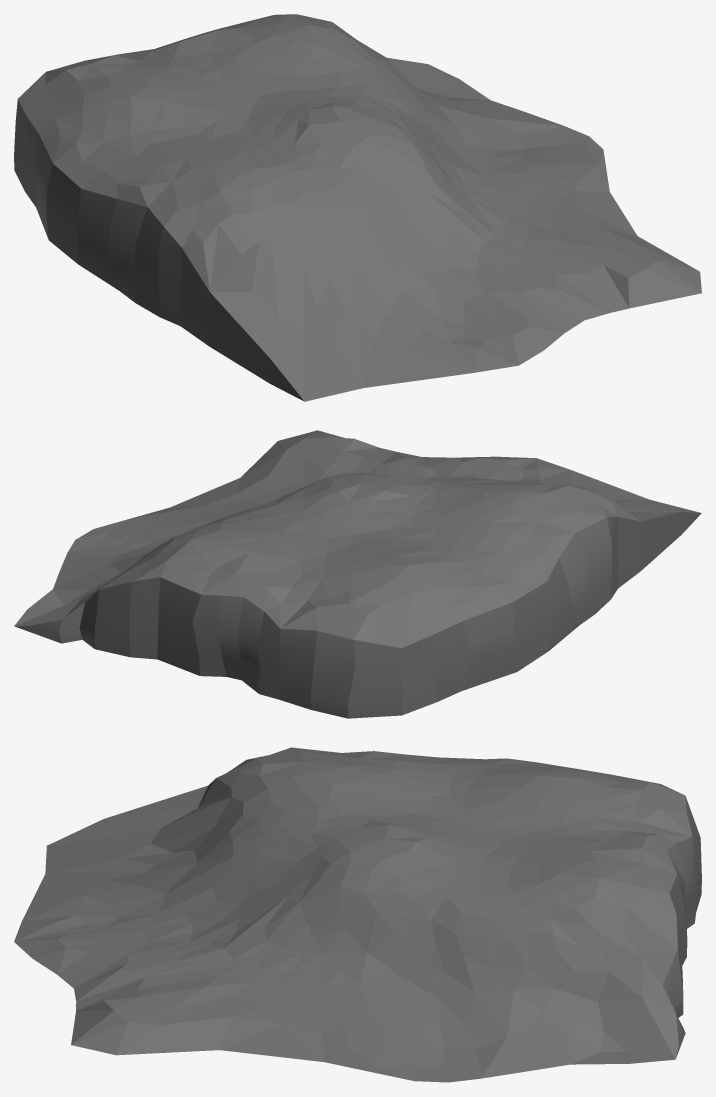
File: SM_Gen_Env_Ground_River_Grass_Large_02.glb
3 renders of one model, top to bottom at view 1: azimuth 30°, elevation 25°; view 2: azimuth 150°, elevation 25°; view 3: azimuth 270°, elevation 25°, orthographic. The views are drawn at different scales.
Parts seen in each view (by area): view 1: SM_Gen_Env_Ground_River_Grass_Large_02; view 2: SM_Gen_Env_Ground_River_Grass_Large_02; view 3: SM_Gen_Env_Ground_River_Grass_Large_02.
Part boxes in pixels (x1=…): SM_Gen_Env_Ground_River_Grass_Large_02: x1=14, y1=14, x2=701, y2=401; SM_Gen_Env_Ground_River_Grass_Large_02: x1=14, y1=430, x2=701, y2=718; SM_Gen_Env_Ground_River_Grass_Large_02: x1=14, y1=747, x2=701, y2=1082.
Bounding box in the file's own units: 28.37 × 5.76 × 32.91.
Materials: 1 (1 with a texture image).
